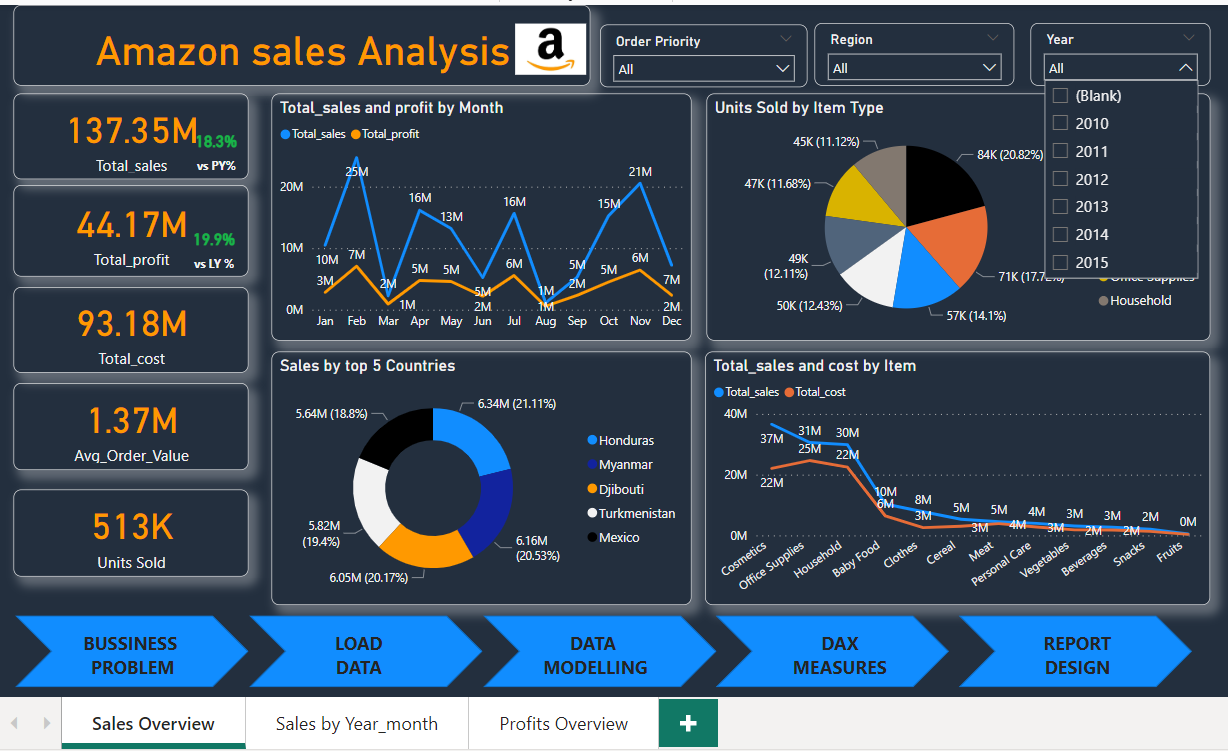

What the dashboard file says about the page in this screenshot:
{"tool":"powerbi","page":{"name":"Sales Overview","canvas":[1280,720],"ordinal":0},"visuals":[{"type":"lineChart","title":"Total_sales and profit by Month","fields":{"Category":["date.Month_name"],"Y":["Key Measures.Total_sales","Key Measures.Total_profit"]},"box":[282.9,92.2,437.1,257.5],"z":0},{"type":"slicer","fields":{"Values":["date.Year"]},"box":[1072.8,19.1,187.5,65.2],"z":1000},{"type":"lineChart","title":"Total_sales and cost by Item ","fields":{"Y":["Key Measures.Total_sales","Key Measures.Total_cost"],"Category":["Amazon Sales data.Item Type"]},"box":[734.3,360.8,526.1,263.8],"z":2000},{"type":"card","fields":{"Values":["Key Measures.Title"]},"box":[14.3,0,600.8,84.2],"z":3000},{"type":"card","fields":{"Values":["Key Measures.Total_sales"]},"box":[14.3,92.2,244.8,89],"z":4000},{"type":"card","fields":{"Values":["Key Measures.Total_profit"]},"box":[14.3,187.5,244.8,95.4],"z":5000},{"type":"card","fields":{"Values":["Key Measures.Total_cost"]},"box":[14.3,294,244.8,89],"z":6000},{"type":"card","fields":{"Values":["Key Measures.Avg_Order_Value"]},"box":[14.3,394.2,244.8,90.6],"z":7000},{"type":"slicer","fields":{"Values":["Amazon Sales data.Region"]},"box":[848.7,19.1,208.2,65.2],"z":8000},{"type":"slicer","fields":{"Values":["Amazon Sales data.Order Priority"]},"box":[624.6,20.7,216.2,65.2],"z":9000},{"type":"pieChart","title":"Units Sold by Item Type","fields":{"Category":["Amazon Sales data.Item Type"],"Y":["Sum(Amazon Sales data.Units Sold)"]},"box":[735.9,92.2,524.5,257.5],"z":10000},{"type":"card","fields":{"Values":["Sum(Amazon Sales data.Units Sold)"]},"box":[14.3,503.8,244.8,90.6],"z":11000},{"type":"donutChart","title":"Sales by top 5  Countries","fields":{"Y":["Key Measures.Total_sales"],"Category":["Amazon Sales data.Country"]},"box":[282.9,360.8,437.1,263.8],"z":12000},{"type":"card","fields":{"Values":["Key Measures.Sales vs PY%"]},"box":[190.7,119.2,68.3,62],"z":13000},{"type":"card","fields":{"Values":["Key Measures.Profit vs LY %"]},"box":[186,222.5,73.1,60.4],"z":14000},{"type":"shape","box":[15.9,635.8,243.2,74.7],"z":15000},{"type":"textbox","box":[52.5,646.9,170.1,63.6],"z":16000},{"type":"shape","box":[259.1,635.8,243.2,74.7],"z":17000},{"type":"shape","box":[502.3,635.8,243.2,74.7],"z":18000},{"type":"shape","box":[745.4,635.8,243.2,74.7],"z":19000},{"type":"shape","box":[998.1,635.8,243.2,74.7],"z":20000},{"type":"textbox","box":[305.2,646.9,138.3,63.6],"z":21000},{"type":"textbox","box":[530.9,646.9,178,63.6],"z":22000},{"type":"textbox","box":[796.3,646.9,155.8,63.6],"z":23000},{"type":"textbox","box":[1055.4,646.9,131.9,63.6],"z":24000},{"type":"image","box":[530.9,0,84.2,92.2],"z":25000}]}

Visuals, with their boxes on the page's 1280x720 design canvas (x1, y1, x2, y2). These are canvas units, not pixel positions in the 1228x751 screenshot, which may show the page scaled, cropped or inside an application window:
"Total_sales and profit by Month" lineChart: <box>283,92,720,350</box>
slicer - date.Year: <box>1073,19,1260,84</box>
"Total_sales and cost by Item " lineChart: <box>734,361,1260,625</box>
card - Key Measures.Title: <box>14,0,615,84</box>
card - Key Measures.Total_sales: <box>14,92,259,181</box>
card - Key Measures.Total_profit: <box>14,188,259,283</box>
card - Key Measures.Total_cost: <box>14,294,259,383</box>
card - Key Measures.Avg_Order_Value: <box>14,394,259,485</box>
slicer - Amazon Sales data.Region: <box>849,19,1057,84</box>
slicer - Amazon Sales data.Order Priority: <box>625,21,841,86</box>
"Units Sold by Item Type" pieChart: <box>736,92,1260,350</box>
card - Sum(Amazon Sales data.Units Sold): <box>14,504,259,594</box>
"Sales by top 5  Countries" donutChart: <box>283,361,720,625</box>
card - Key Measures.Sales vs PY%: <box>191,119,259,181</box>
card - Key Measures.Profit vs LY %: <box>186,222,259,283</box>
shape: <box>16,636,259,710</box>
textbox: <box>52,647,223,710</box>
shape: <box>259,636,502,710</box>
shape: <box>502,636,746,710</box>
shape: <box>745,636,989,710</box>
shape: <box>998,636,1241,710</box>
textbox: <box>305,647,444,710</box>
textbox: <box>531,647,709,710</box>
textbox: <box>796,647,952,710</box>
textbox: <box>1055,647,1187,710</box>
image: <box>531,0,615,92</box>
